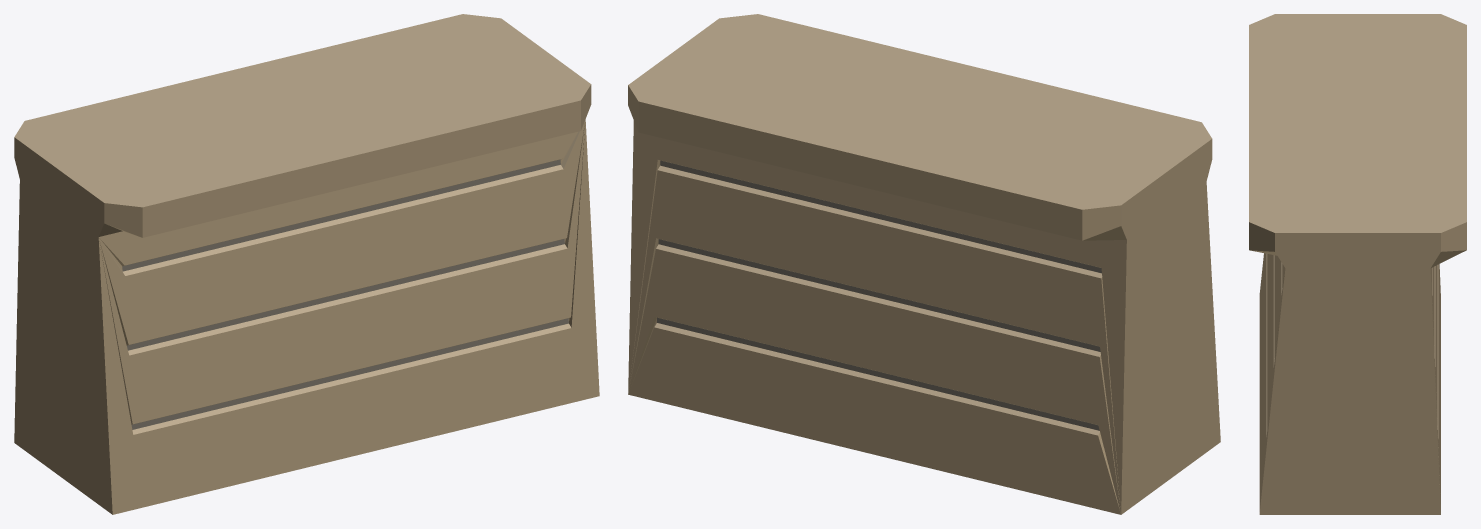
File: coast_seawall.glb
The picture shows the model from 3 angles, left to right: view 1: azimuth 30°, elevation 25°; view 2: azimuth 150°, elevation 25°; view 3: azimuth 270°, elevation 25°; orthographic projection. The views are drawn at different scales.
Parts seen in each view (by area): view 1: coast_seawall; view 2: coast_seawall; view 3: coast_seawall.
Part boxes in pixels (x1=…): coast_seawall: x1=14, y1=14, x2=599, y2=514; coast_seawall: x1=628, y1=14, x2=1220, y2=514; coast_seawall: x1=1249, y1=14, x2=1466, y2=514.
Size of the model in its own units: 2 by 1.2 by 0.84.
